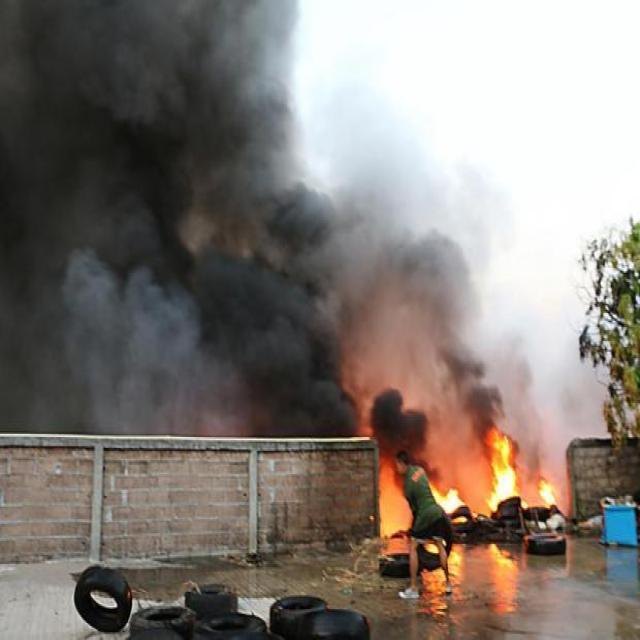Fire: (428, 425, 556, 516)
Smoke: (0, 0, 522, 471)
